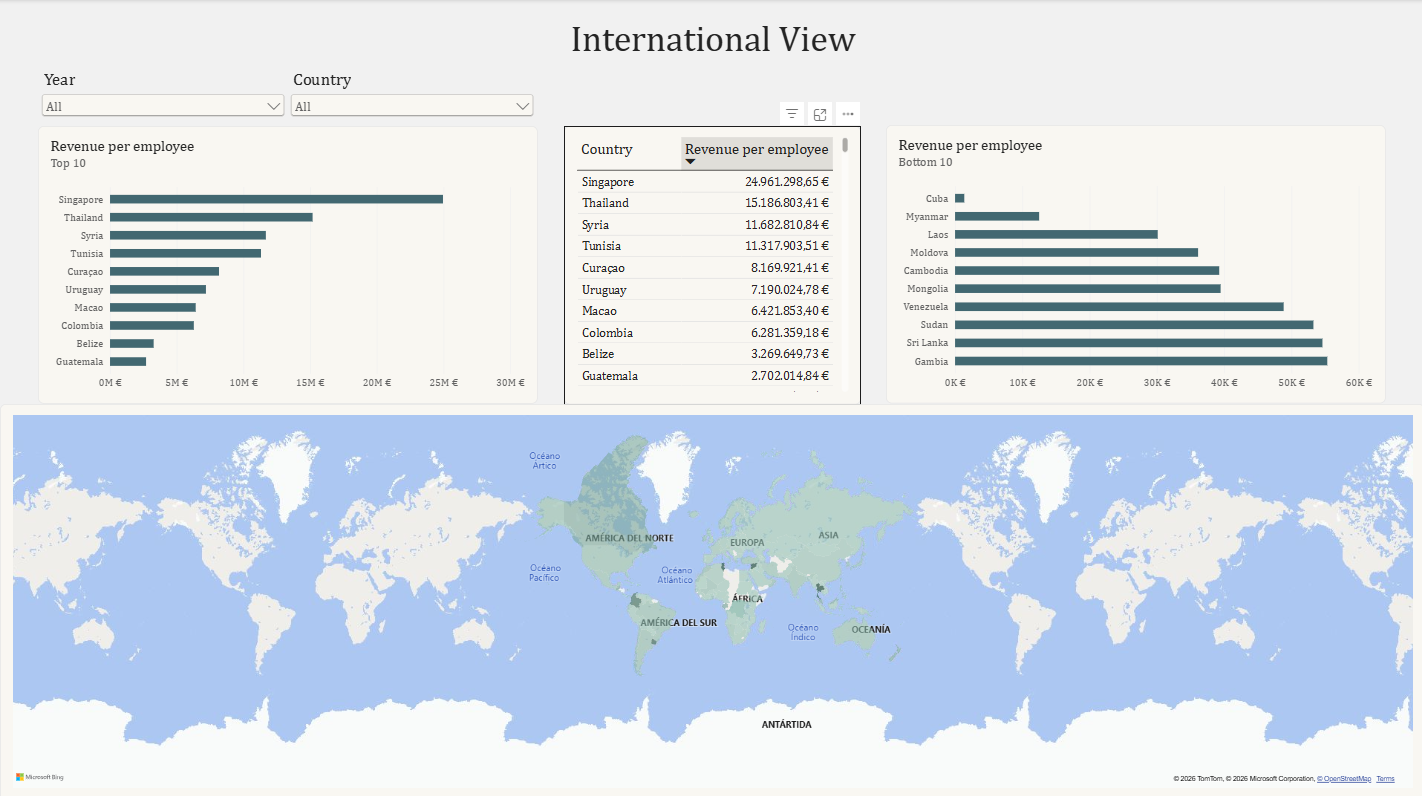

Layout of this report page (visuals, bound fields, positions):
{"tool":"powerbi","page":{"name":"International View","canvas":[1920,1080],"ordinal":0},"visuals":[{"type":"clusteredBarChart","title":"Revenue per employee","fields":{"Category":["mreid_db dim_countries.country"],"Y":["mreid_db mreid_facts.revenue_employee"]},"box":[51.4,171.4,672.9,374.3],"z":0},{"type":"slicer","fields":{"Values":["mreid_db mreid_facts.year"]},"box":[51.4,94.3,337,78.8],"z":1000},{"type":"textbox","box":[0,24.8,1920,67.1],"z":2000},{"type":"clusteredBarChart","title":"Revenue per employee","fields":{"Category":["mreid_db dim_countries.country"],"Y":["mreid_db mreid_facts.revenue_employee"]},"box":[1192.9,170,672.6,375],"z":3000},{"type":"tableEx","fields":{"Values":["mreid_db dim_countries.country","mreid_db mreid_facts.revenue_employee"]},"box":[760,171.2,399.8,375],"z":4000},{"type":"slicer","fields":{"Values":["mreid_db dim_countries.country"]},"box":[387.1,94.3,337,77.3],"z":5000},{"type":"filledMap","fields":{"Category":["mreid_db dim_countries.country"]},"box":[0,545.7,1920,534],"z":6000}]}

Visuals, with their boxes in screenshot pixels (x1, y1, x2, y2), scaled from the page's 1920x1080 canvas onto the 1422x796 screenshot:
"Revenue per employee" clusteredBarChart: <bbox>38, 126, 536, 402</bbox>
slicer - mreid_db mreid_facts.year: <bbox>38, 70, 288, 128</bbox>
textbox: <bbox>0, 18, 1421, 68</bbox>
"Revenue per employee" clusteredBarChart: <bbox>883, 125, 1382, 402</bbox>
tableEx - mreid_db dim_countries.country x mreid_db mreid_facts.revenue_employee: <bbox>563, 126, 859, 403</bbox>
slicer - mreid_db dim_countries.country: <bbox>287, 70, 536, 126</bbox>
filledMap - mreid_db dim_countries.country: <bbox>0, 402, 1421, 795</bbox>
